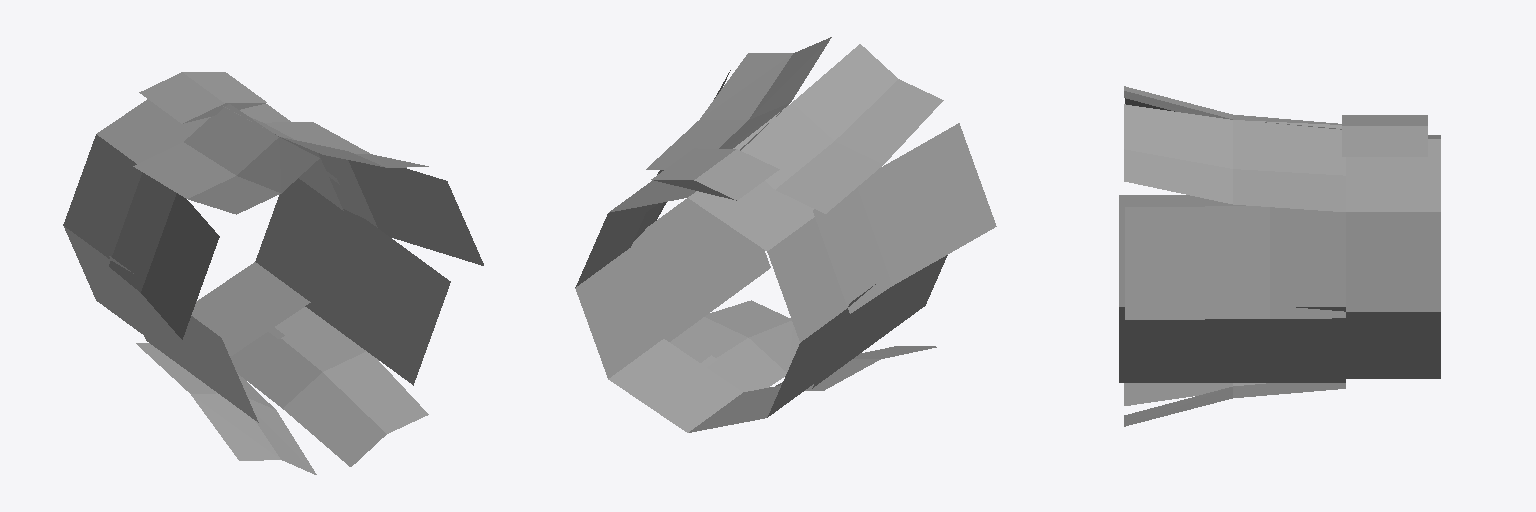
File: bracelet.obj
3 renders of one model, left to right at view 1: azimuth 30°, elevation 25°; view 2: azimuth 150°, elevation 25°; view 3: azimuth 270°, elevation 25°, orthographic.
Visible parts, largest first — view 1: bracelet, feather_b_R, obj_R, feather_a_L, tooth_L, tooth_R, feather_b_L, obj_L, gem, feather_a_R; view 2: bracelet, tooth_L, feather_a_L, obj_R, feather_a_R, feather_b_R, obj_L, gem, feather_b_L; view 3: tooth_R, bracelet, feather_a_R, obj_R, gem, feather_b_R, obj_L, feather_b_L, feather_a_L.
Boxes of the visible parts, <box> form: bracelet: <box>63,99,343,355</box>; feather_b_R: <box>230,307,428,466</box>; obj_R: <box>303,206,450,385</box>; feather_a_L: <box>133,104,319,214</box>; tooth_L: <box>109,172,219,339</box>; tooth_R: <box>313,153,483,265</box>; feather_b_L: <box>136,343,316,474</box>; obj_L: <box>109,256,258,422</box>; gem: <box>139,72,266,123</box>; feather_a_R: <box>223,106,428,167</box>; bracelet: <box>575,180,847,432</box>; tooth_L: <box>813,123,996,313</box>; feather_a_L: <box>733,44,943,213</box>; obj_R: <box>623,198,770,343</box>; feather_a_R: <box>646,37,831,169</box>; feather_b_R: <box>670,300,799,391</box>; obj_L: <box>812,255,947,388</box>; gem: <box>651,148,779,200</box>; feather_b_L: <box>766,346,936,395</box>; tooth_R: <box>1125,206,1345,319</box>; bracelet: <box>1329,135,1440,378</box>; feather_a_R: <box>1124,104,1356,211</box>; obj_R: <box>1119,307,1358,382</box>; gem: <box>1342,115,1427,156</box>; feather_b_R: <box>1124,383,1345,426</box>; obj_L: <box>1119,195,1245,306</box>; feather_b_L: <box>1124,383,1265,405</box>; feather_a_L: <box>1124,86,1341,129</box>.
Size of the model in its own units: 125 by 126 by 115.